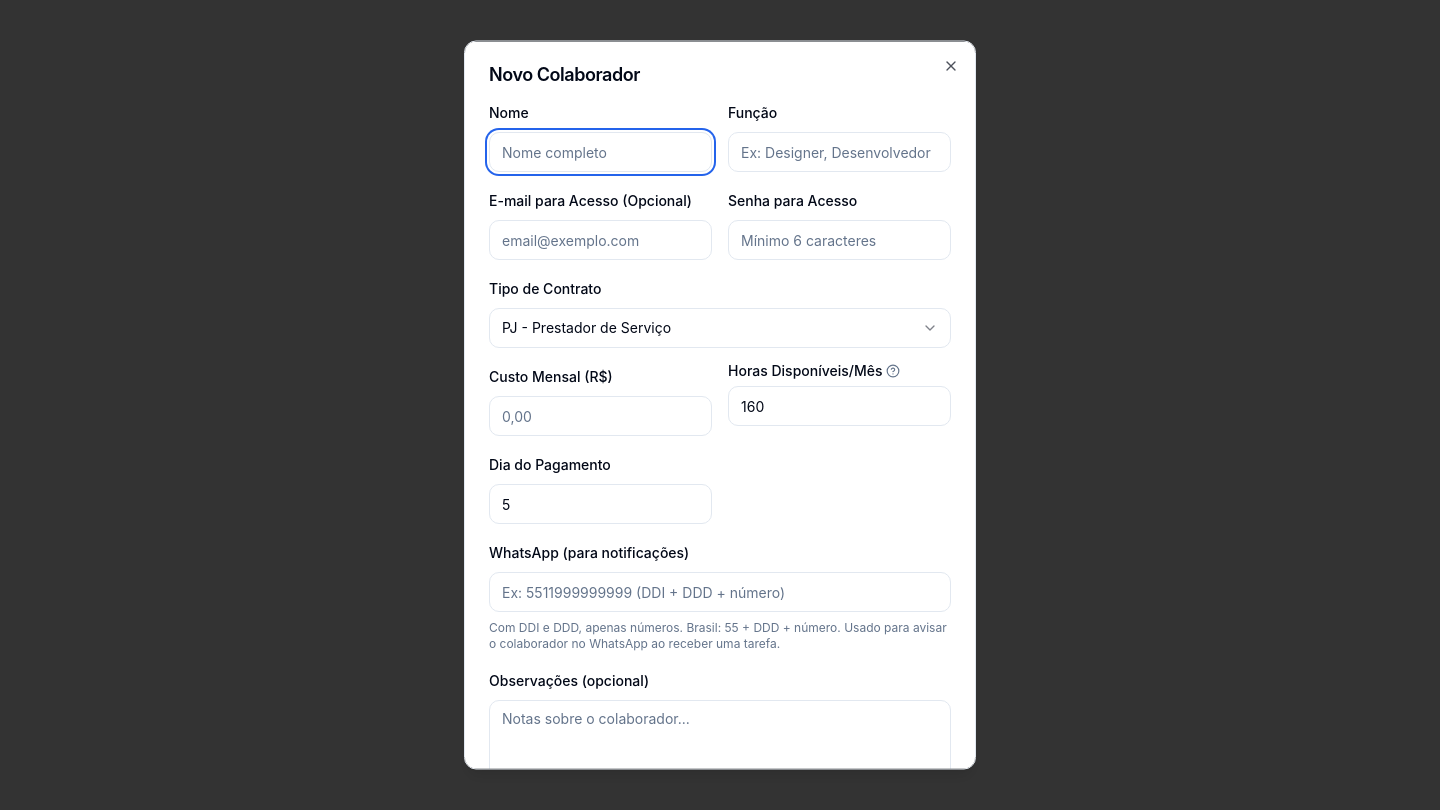
Test: TeamMemberForm — whatsapp digits-only rule (Edge Cases) › rejects a whatsapp that is not digits-only with the spec message
Type "Maria Silva" into the field labelled "Nome" at (600, 152), box [489,132,712,172]
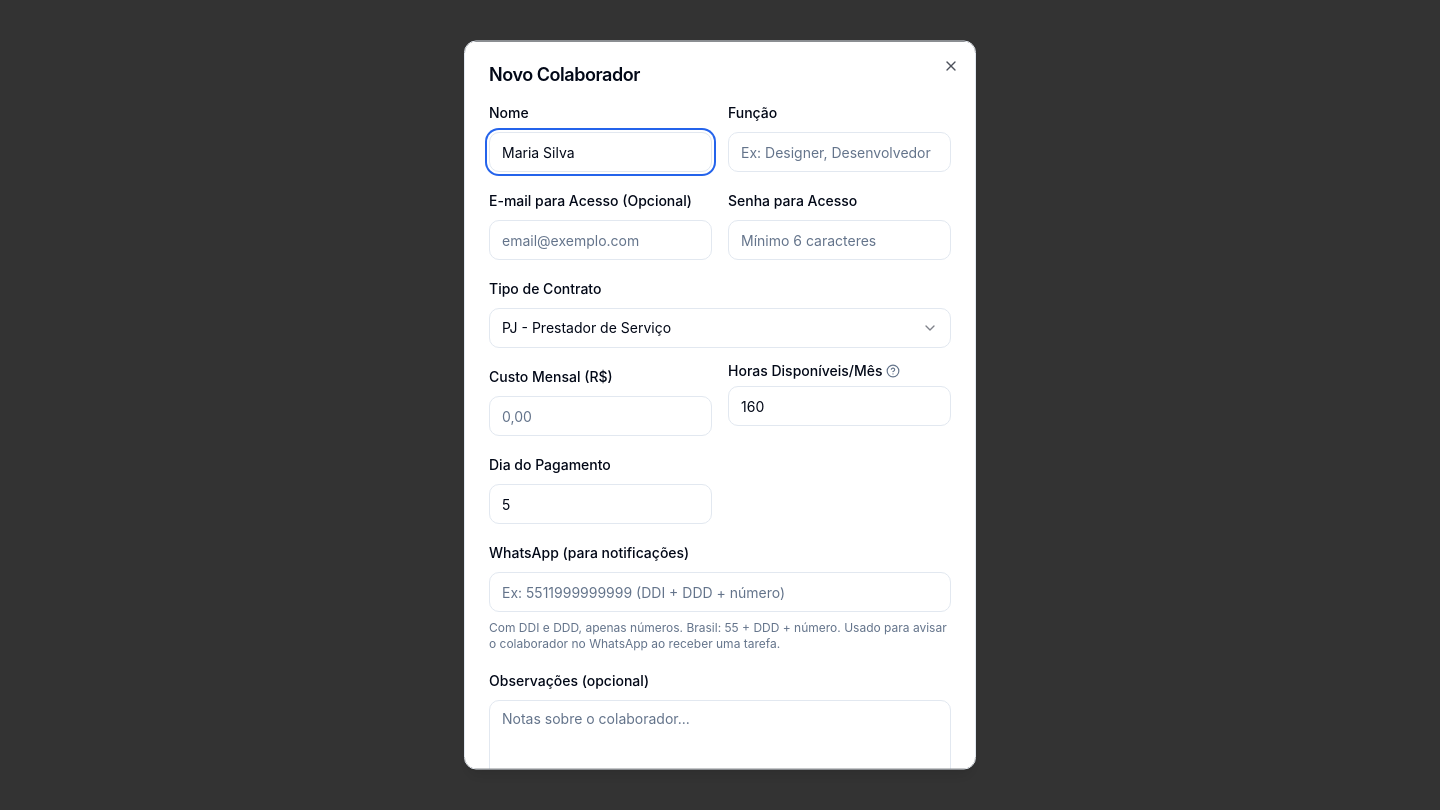
Type "Colaborador" into the field labelled "Função" at (840, 152), box [728,132,951,172]
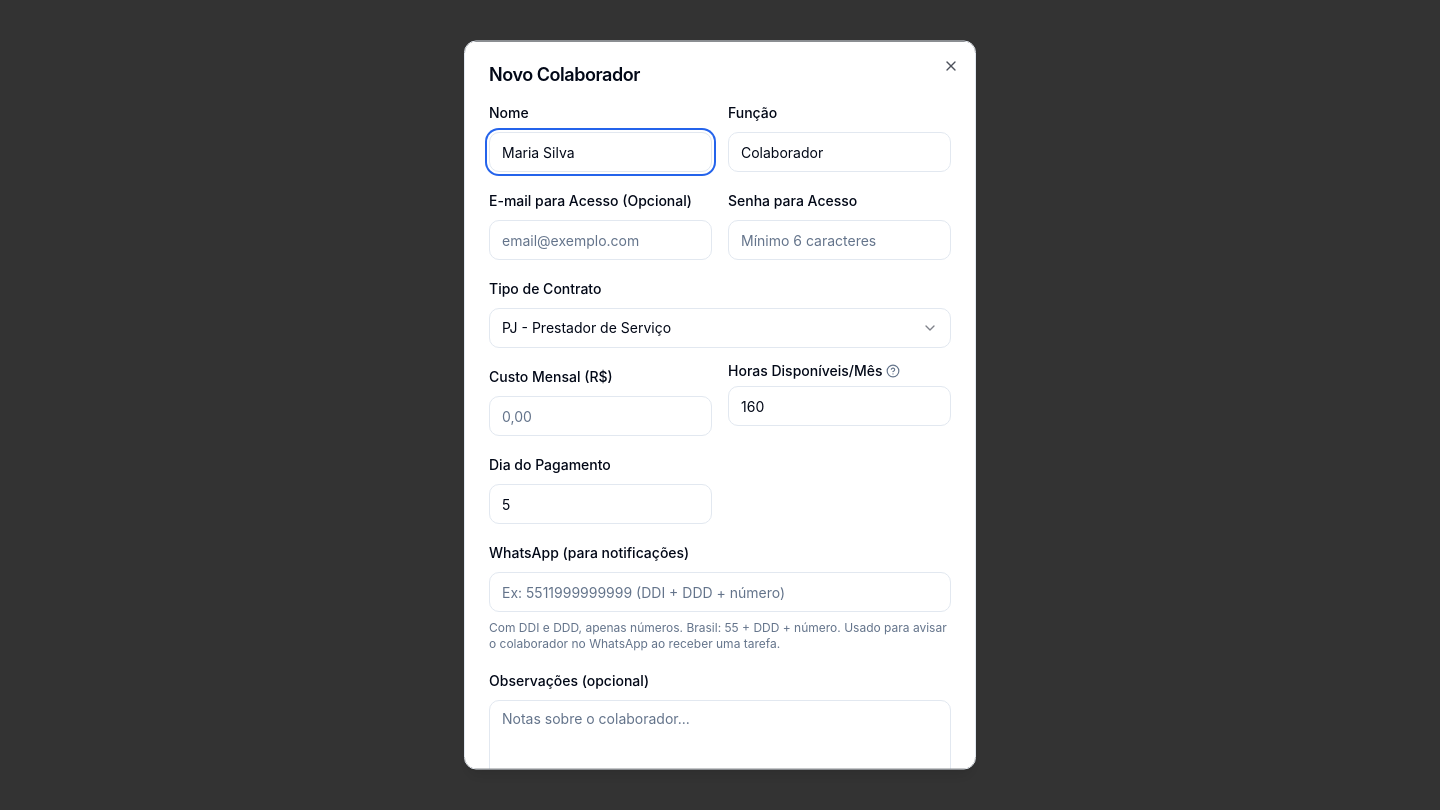
Type "1000" into the number field labelled "Custo Mensal (R$)" at (600, 416), box [489,396,712,436]
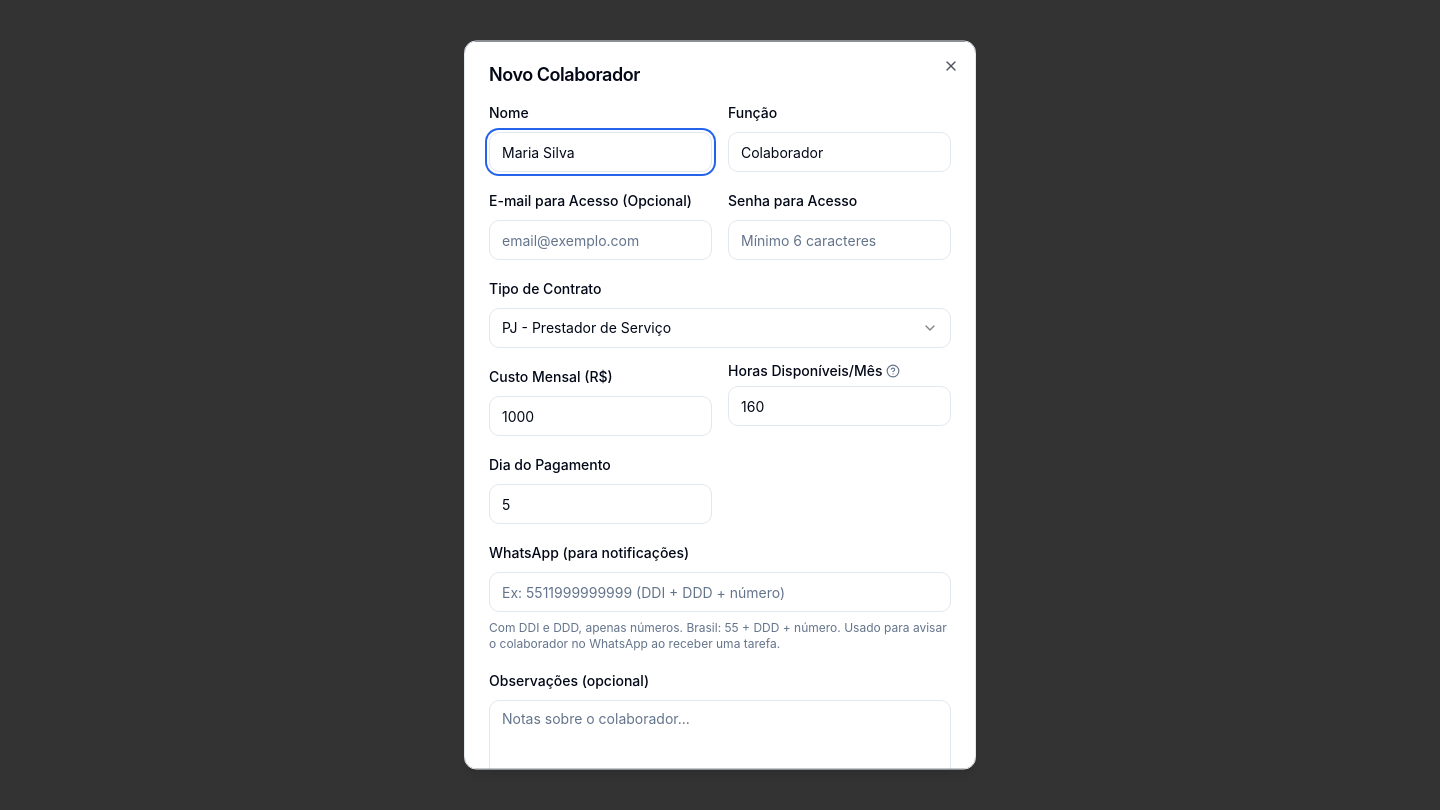
Type "+55 11 99999-0001" into the field labelled "WhatsApp (para notificações)" at (720, 592), box [489,572,951,612]
(page scrolled)
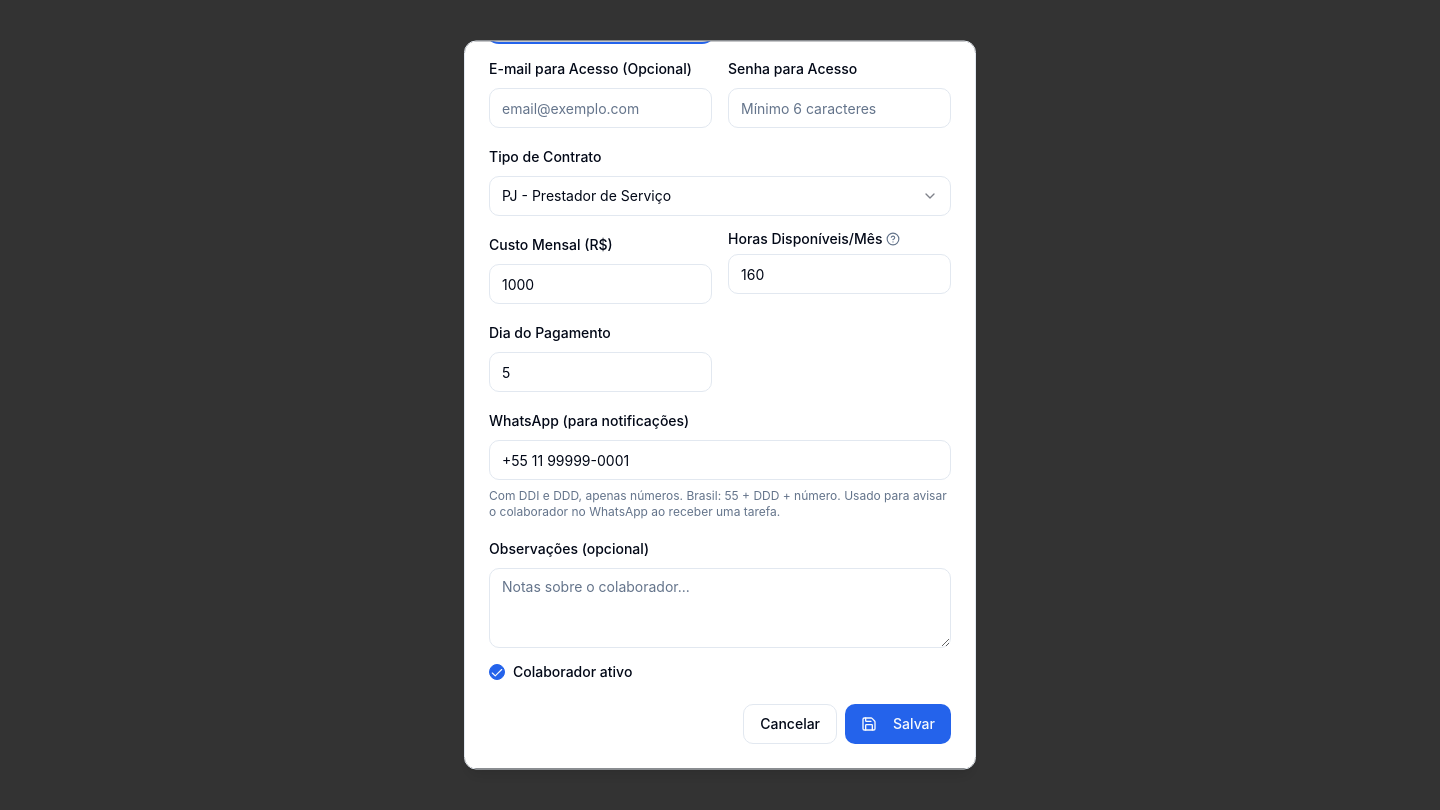
Click the button "Salvar" at (898, 724), box [845,704,951,744]
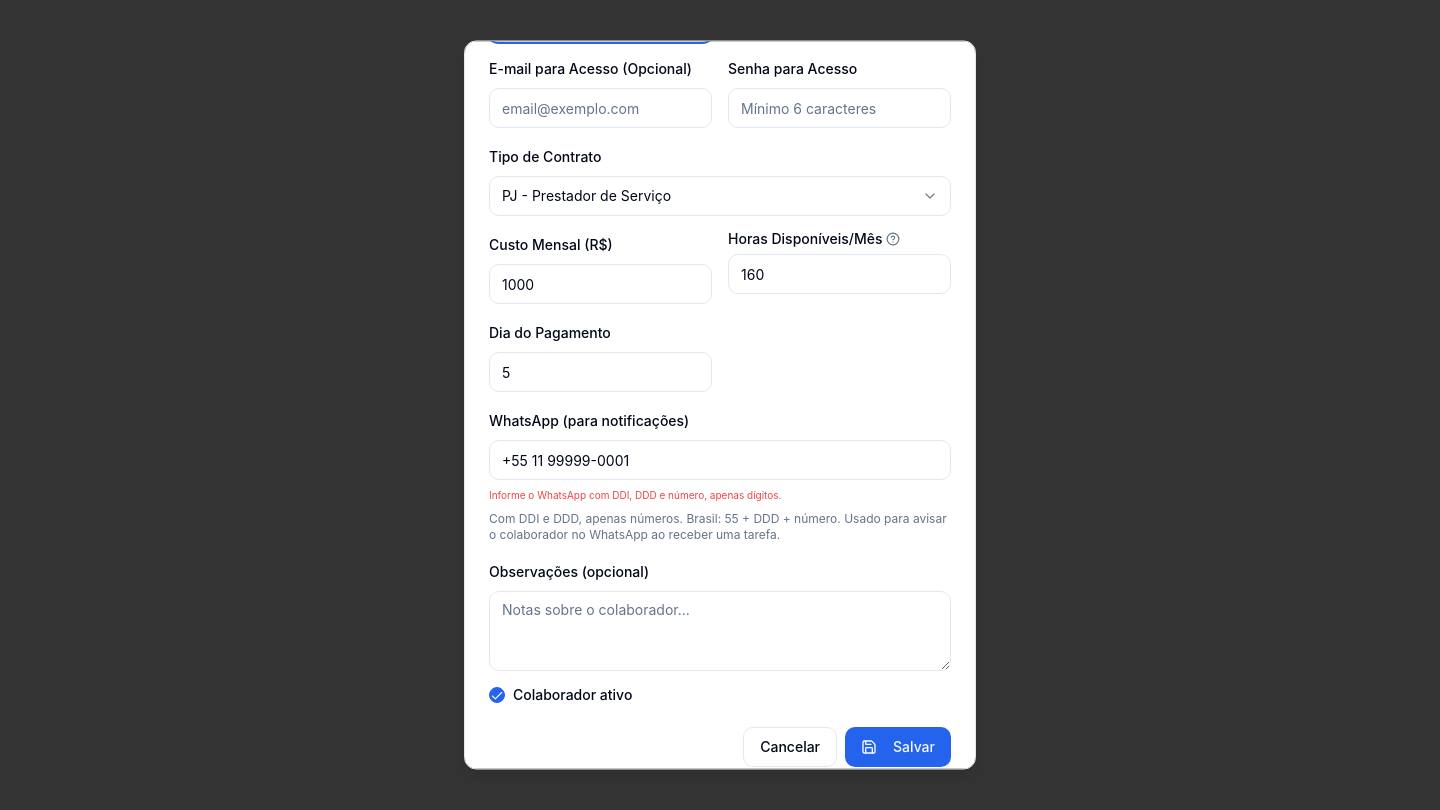
Result: the text "Informe o WhatsApp com DDI, DDD e número, apenas dígitos." is shown at [489,490,781,502]
